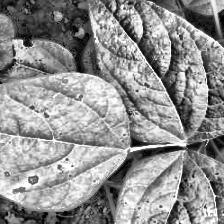ALS: (70, 0, 224, 142), (0, 79, 134, 207), (111, 150, 224, 223)
